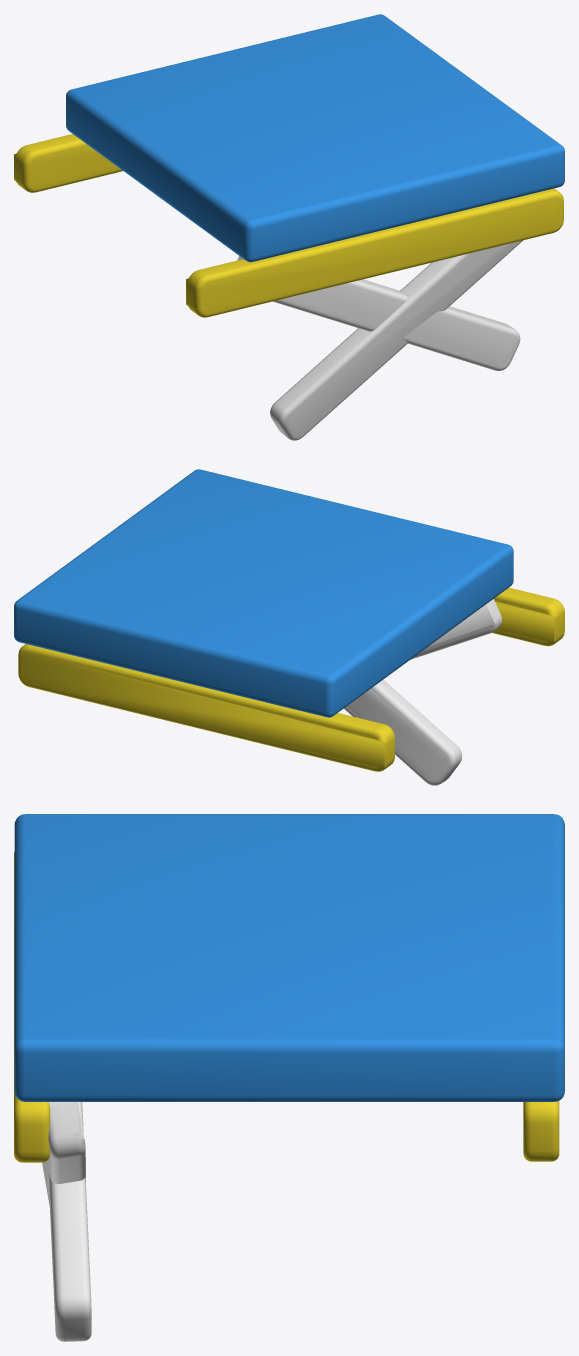
3 renders of one model, top to bottom at view 1: azimuth 30°, elevation 25°; view 2: azimuth 150°, elevation 25°; view 3: azimuth 270°, elevation 25°, orthographic. The views are drawn at different scales.
Parts seen in each view (by area): view 1: Cube.001, Cube.002, Cube.005, Cube.004, Cube.003; view 2: Cube.001, Cube.003, Cube.005, Cube.002, Cube.004; view 3: Cube.001, Cube.004, Cube.005, Cube.002, Cube.003.
Boxes of the visible parts, box(x1,y1,x2,y2) form: Cube.001: box(66, 14, 564, 262); Cube.002: box(186, 188, 563, 317); Cube.005: box(270, 240, 522, 440); Cube.004: box(237, 256, 520, 370); Cube.003: box(14, 134, 122, 192); Cube.001: box(14, 469, 513, 717); Cube.003: box(18, 644, 394, 771); Cube.005: box(343, 679, 462, 785); Cube.002: box(492, 587, 564, 646); Cube.004: box(411, 599, 502, 659); Cube.001: box(14, 814, 564, 1101); Cube.004: box(48, 1102, 91, 1341); Cube.005: box(42, 1102, 85, 1207); Cube.002: box(14, 851, 49, 1162); Cube.003: box(523, 1101, 559, 1161).
Size of the model in its own units: 2.33 by 1.45 by 2.
